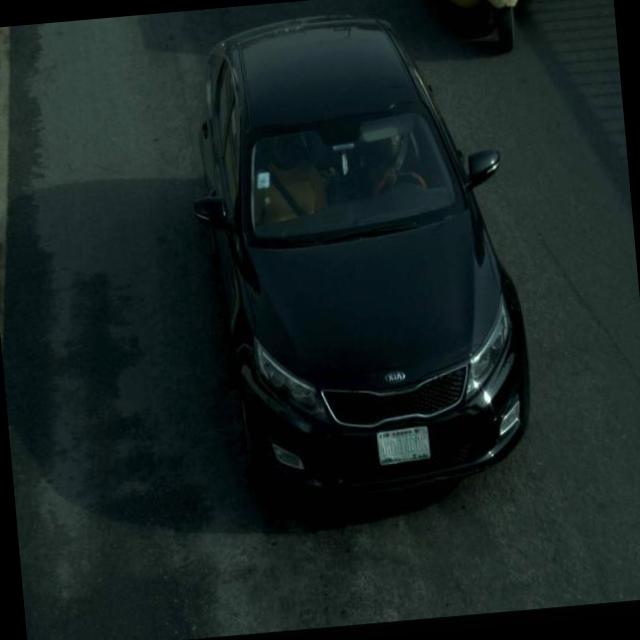person_with_seatbelt: (332, 114, 444, 229)
